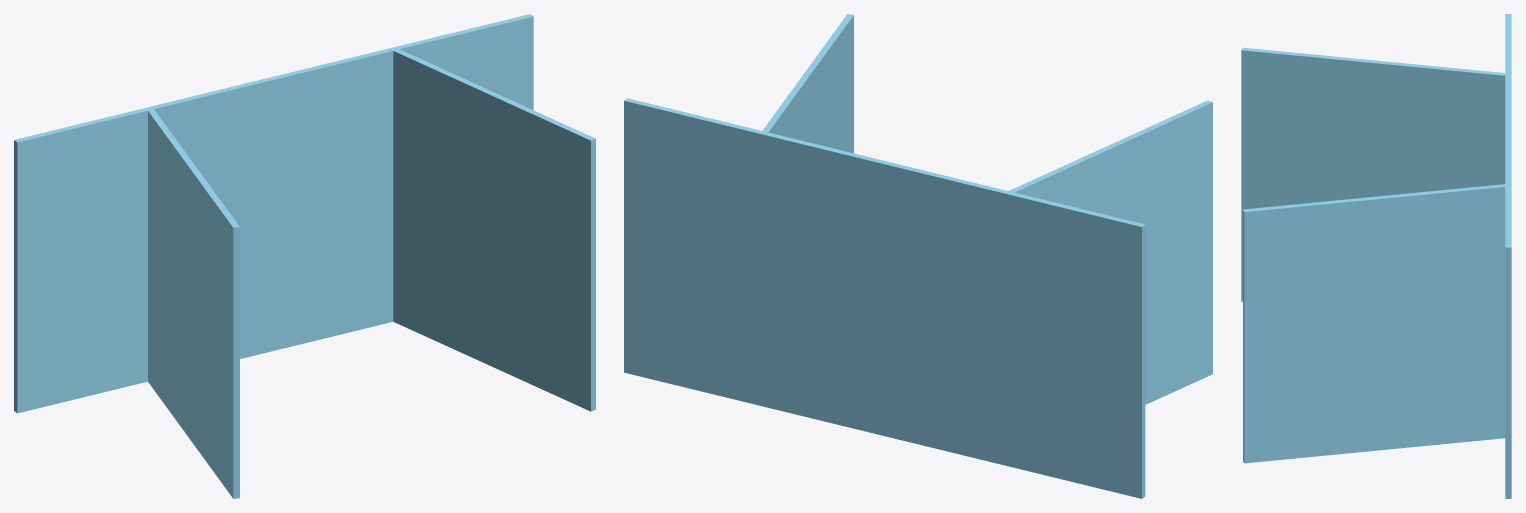
Rendered from First_Scene_Walls.fbx.
The picture shows the model from 3 angles, left to right: view 1: azimuth 30°, elevation 25°; view 2: azimuth 150°, elevation 25°; view 3: azimuth 270°, elevation 25°; orthographic projection. The views are drawn at different scales.
Visible parts, largest first — view 1: pCube44, pCube43, pCube42; view 2: pCube44, pCube42, pCube43; view 3: pCube43, pCube42, pCube44.
Boxes of the visible parts, x1,y1,x2,y2 form: pCube44: [14, 14, 533, 413]; pCube43: [391, 48, 595, 411]; pCube42: [148, 108, 239, 498]; pCube44: [624, 98, 1145, 498]; pCube42: [1007, 100, 1212, 404]; pCube43: [762, 14, 853, 153]; pCube43: [1243, 183, 1508, 463]; pCube42: [1241, 47, 1506, 301]; pCube44: [1505, 14, 1511, 498].
Bounding box in the file's own units: 18 × 9.03 × 8.81.
